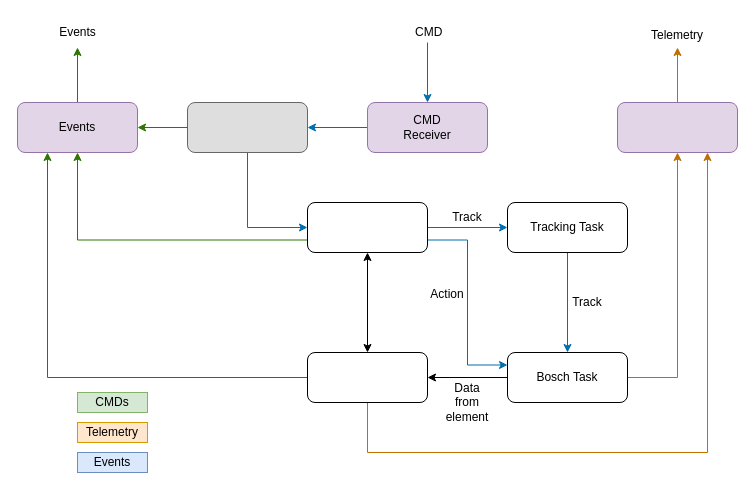
Some shapes in this 755 by 490 pixel diagram are drawn without their labels. The shapes that lost their labels are listed below. From the top down, each one's centre as x and y in pixels, then its label:
At point (247, 127): "AZ Statechart".
At point (677, 127): "Network Shared Varialbe Engine".
At point (367, 227): "AZCW Statechart".
At point (367, 377): "Monitoring & Events".
